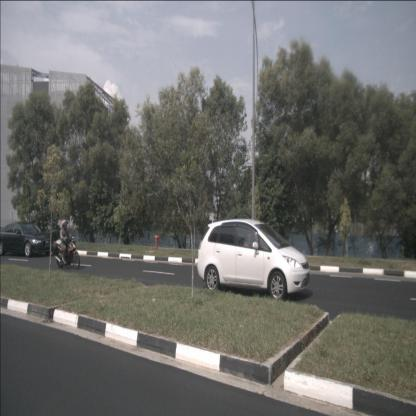vehicle-car: (198, 219, 310, 300), (0, 222, 53, 256)
vehicle-motorcycle: (56, 220, 80, 268)
